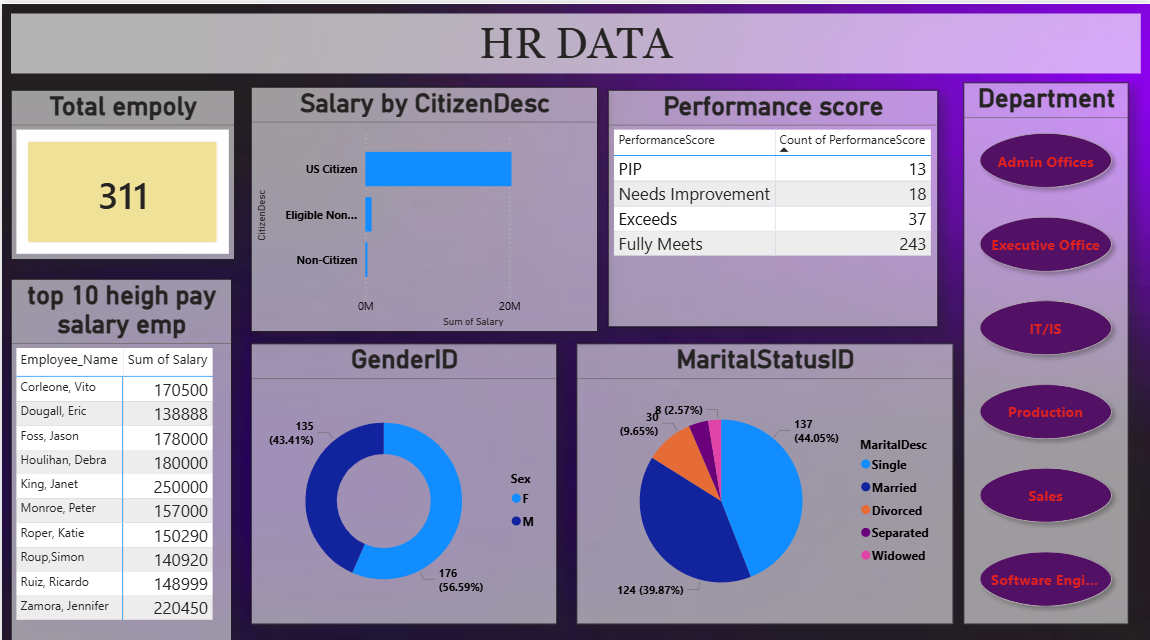

The dashboard page shown, as its layout file describes it:
{"tool":"powerbi","page":{"name":"HR dsbrd","canvas":[1280,720],"ordinal":4},"visuals":[{"type":"textbox","box":[10,11.7,1255,66.7],"z":0},{"type":"cardVisual","title":"Total empoly","fields":{"Data":["Count(HRDataset_v14.EmpID)"]},"box":[10,96.7,248.3,188.3],"z":1000},{"type":"pieChart","title":" MaritalStatusID ","fields":{"Category":["HRDataset_v14.MaritalDesc"],"Y":["CountNonNull(HRDataset_v14.MaritalStatusID)"]},"box":[638.3,378.3,418.3,311.7],"z":2000},{"type":"donutChart","title":" GenderID ","fields":{"Category":["HRDataset_v14.Sex"],"Y":["CountNonNull(HRDataset_v14.GenderID)"]},"box":[276.7,378.3,340,311.7],"z":3000},{"type":"tableEx","title":"Performance score","fields":{"Values":["HRDataset_v14.PerformanceScore","CountNonNull(HRDataset_v14.PerformanceScore)"]},"box":[673.3,96.7,366.7,263.3],"z":4000},{"type":"advancedSlicerVisual","fields":{"Values":["HRDataset_v14.Department"]},"box":[1068.3,88.3,183.3,601.7],"z":5000},{"type":"clusteredBarChart","title":" Salary by CitizenDesc","fields":{"Category":["HRDataset_v14.CitizenDesc"],"Y":["Sum(HRDataset_v14.Salary)"]},"box":[276.7,93.3,385,271.7],"z":6000},{"type":"pivotTable","title":"top 10 heigh pay salary emp","fields":{"Rows":["HRDataset_v14.Employee_Name"],"Values":["Sum(HRDataset_v14.Salary)"]},"box":[10,306.7,245,413.3],"z":7000}]}

Visuals, with their boxes in screenshot pixels (x1, y1, x2, y2), scaled from the page's 1280x720 canvas onto the 1150x640 screenshot:
textbox: 9,10,1137,70
"Total empoly" cardVisual: 9,86,232,253
" MaritalStatusID " pieChart: 573,336,949,613
" GenderID " donutChart: 249,336,554,613
"Performance score" tableEx: 605,86,934,320
advancedSlicerVisual - HRDataset_v14.Department: 960,78,1124,613
" Salary by CitizenDesc" clusteredBarChart: 249,83,594,324
"top 10 heigh pay salary emp" pivotTable: 9,273,229,639
